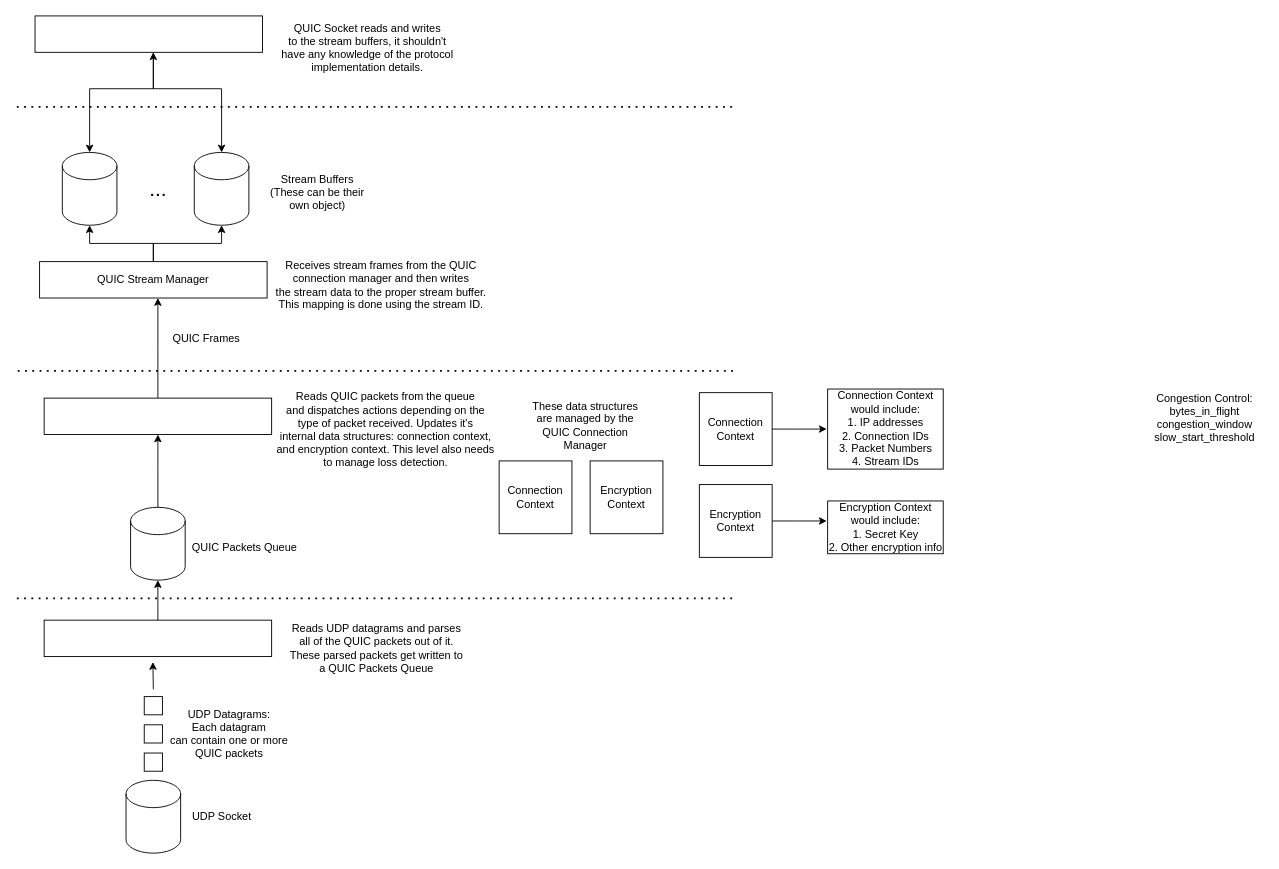
This 1279x869 diagram has some shape labels left out. Here are the shapes that lost their labels. From the top down, the centre of each, then its label:
(148,33): QUIC Socket
(157,416): QUIC Connection Manager
(157,638): QUIC Packet Parser
